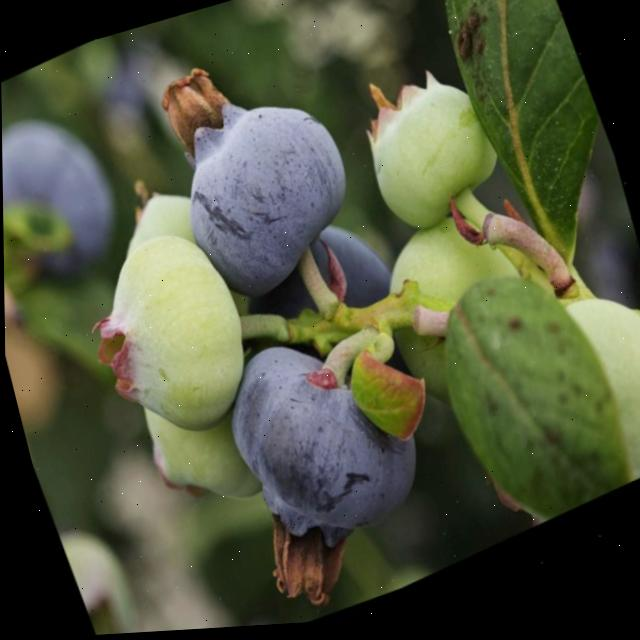RipeBlueBerry: (201, 297, 454, 610), (145, 47, 386, 332)
UnripeBlueBerry: (65, 209, 280, 475), (347, 61, 521, 263)
